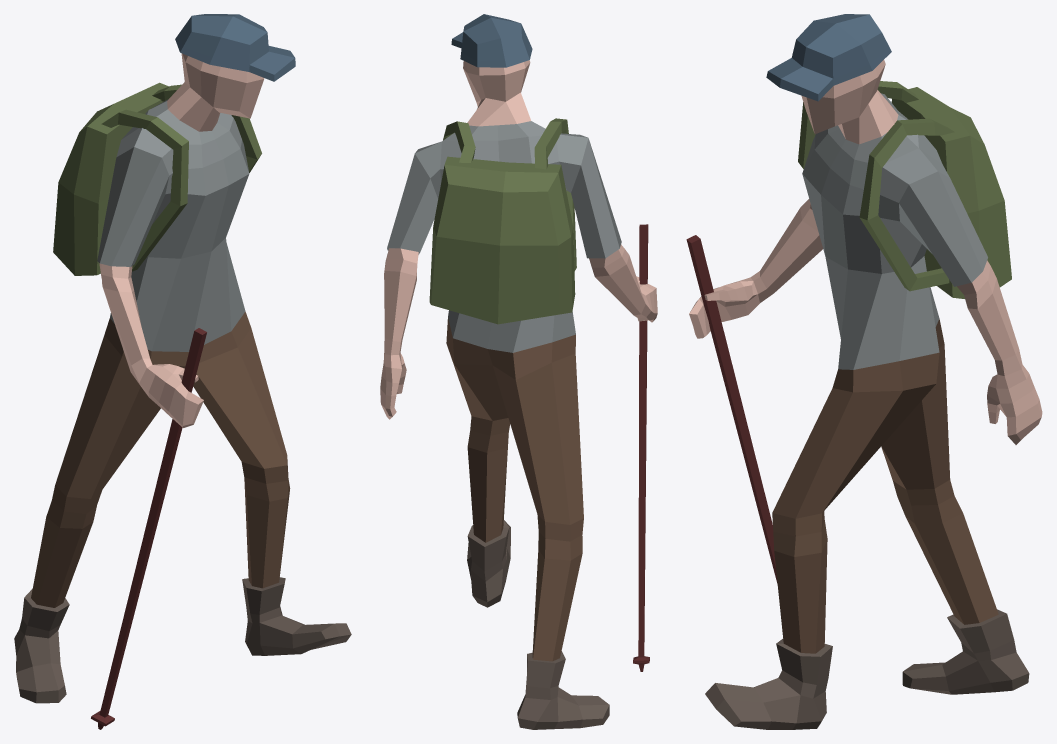
File: Walking.gltf
The picture shows the model from 3 angles, left to right: view 1: azimuth 30°, elevation 25°; view 2: azimuth 150°, elevation 25°; view 3: azimuth 270°, elevation 25°; orthographic projection. The views are drawn at different scales.
Visible parts, largest first — view 1: Model_walk_Untitled.001; view 2: Model_walk_Untitled.001; view 3: Model_walk_Untitled.001.
Boxes of the visible parts, <box> form: Model_walk_Untitled.001: <box>14,14,351,729</box>; Model_walk_Untitled.001: <box>380,14,657,729</box>; Model_walk_Untitled.001: <box>686,14,1042,729</box>.
Size of the model in its own units: 0.3361 by 0.9293 by 0.4052.
